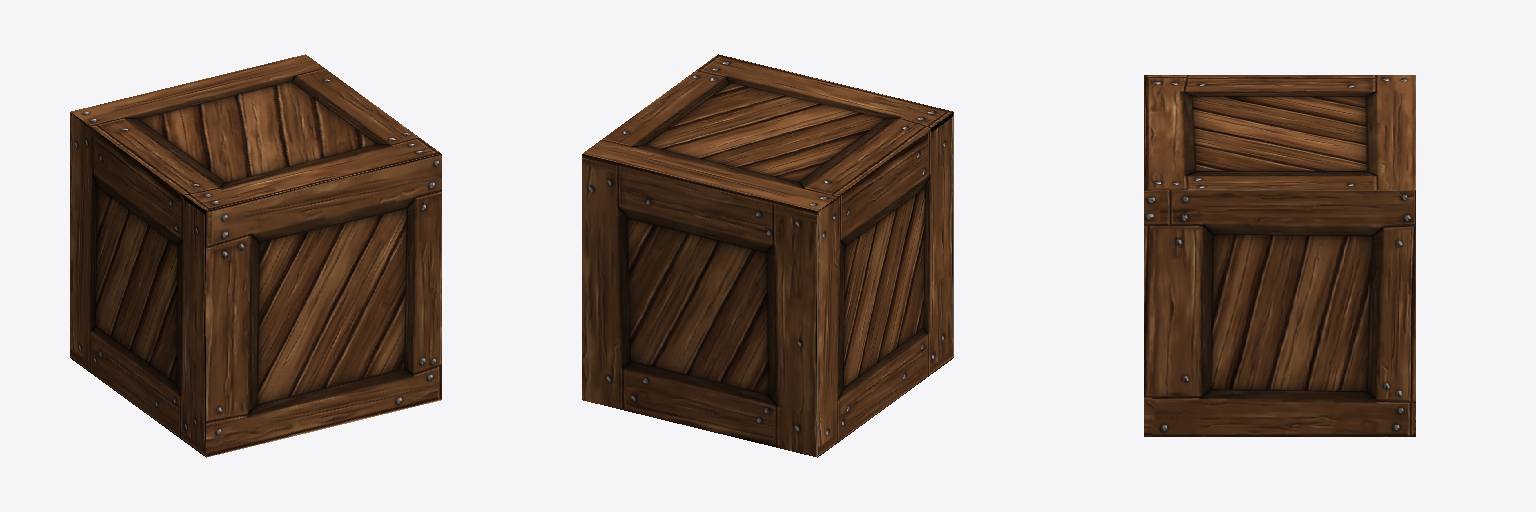
The picture shows the model from 3 angles: view 1: azimuth 30°, elevation 25°; view 2: azimuth 150°, elevation 25°; view 3: azimuth 270°, elevation 25°; orthographic projection.
Parts seen in each view (by area): view 1: Cube; view 2: Cube; view 3: Cube.
Boxes of the visible parts, <box> form: Cube: <box>70,54,441,457</box>; Cube: <box>582,54,953,457</box>; Cube: <box>1144,75,1415,436</box>.
Size of the model in its own units: 2 by 2 by 2.
Materials: 1 (1 with a texture image).